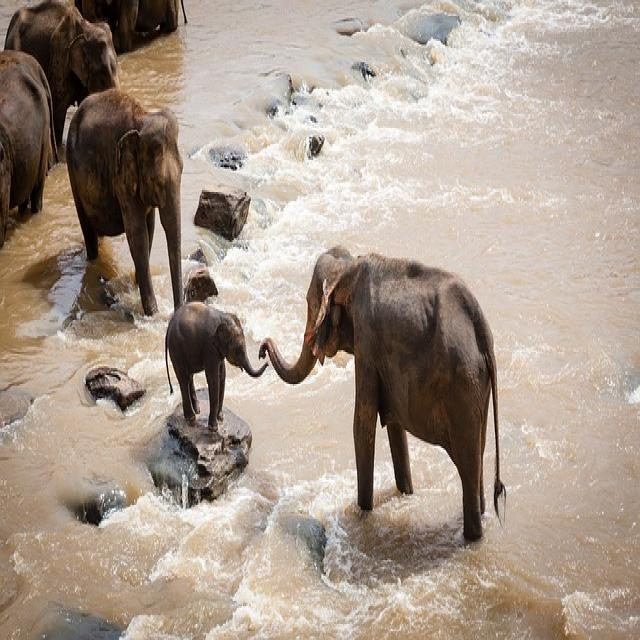elephant: (259, 247, 505, 540), (66, 89, 182, 316), (5, 0, 119, 146), (166, 302, 268, 430), (0, 53, 54, 208)
